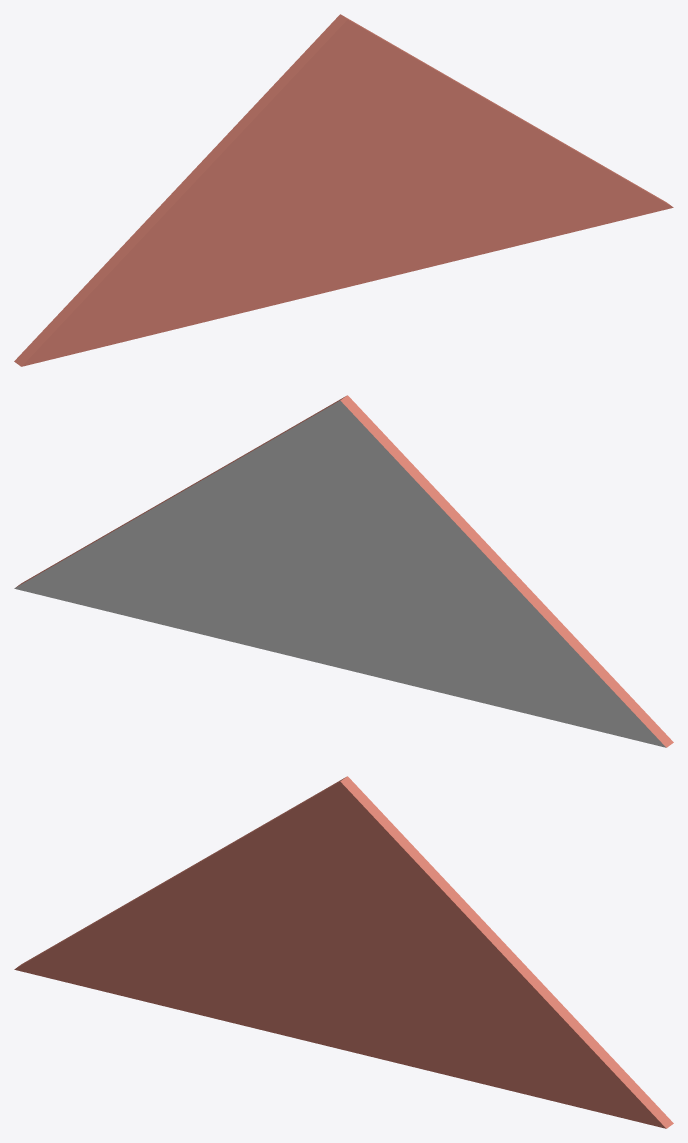
Rendered from Wall1_C6_18.fbx.
3 views of the same model, one above another, from view 1: azimuth 30°, elevation 25°; view 2: azimuth 150°, elevation 25°; view 3: azimuth 330°, elevation 25° (orthographic).
Parts seen in each view (by area): view 1: Wall1_C6_18; view 2: Wall1_C6_18; view 3: Wall1_C6_18.
Boxes of the visible parts, bbox=[...] form: Wall1_C6_18: bbox=[14, 14, 673, 366]; Wall1_C6_18: bbox=[14, 395, 673, 747]; Wall1_C6_18: bbox=[14, 776, 673, 1128].
Size of the model in its own units: 765 by 300 by 15.
